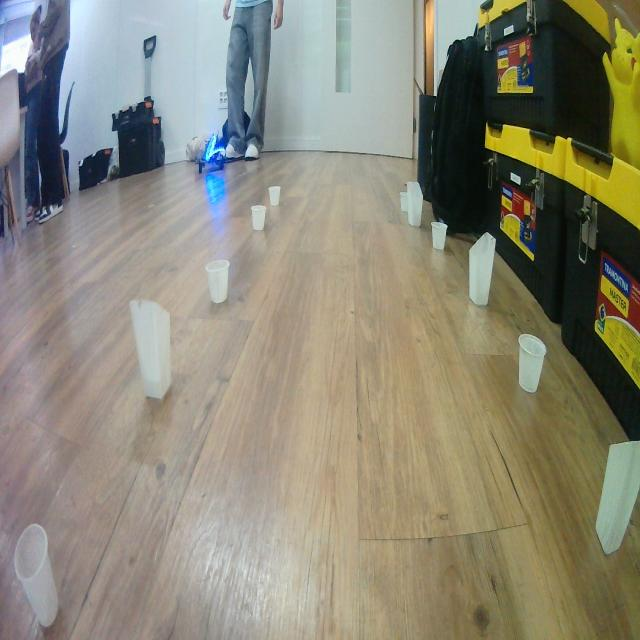erva_daninha: (594, 440, 640, 556), (128, 297, 172, 400), (468, 232, 496, 307), (404, 181, 424, 227)
planta: (13, 522, 59, 628), (518, 333, 548, 394), (206, 258, 230, 304), (430, 221, 448, 251), (250, 205, 267, 232), (269, 185, 281, 207), (399, 191, 409, 213)
